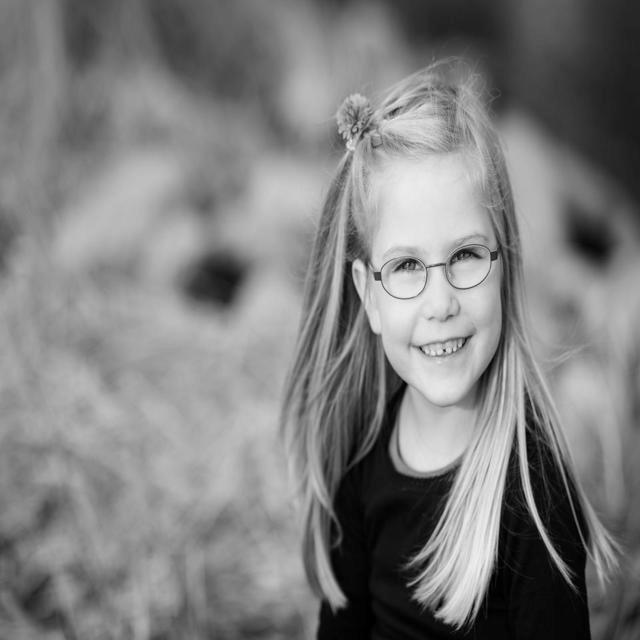Happiness: (354, 145, 508, 408)
